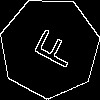F: (24, 23, 78, 72)
